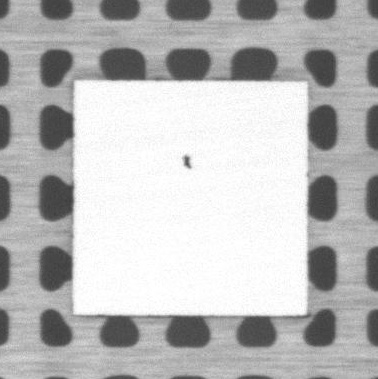DIE_INK: (182, 155, 193, 170)
